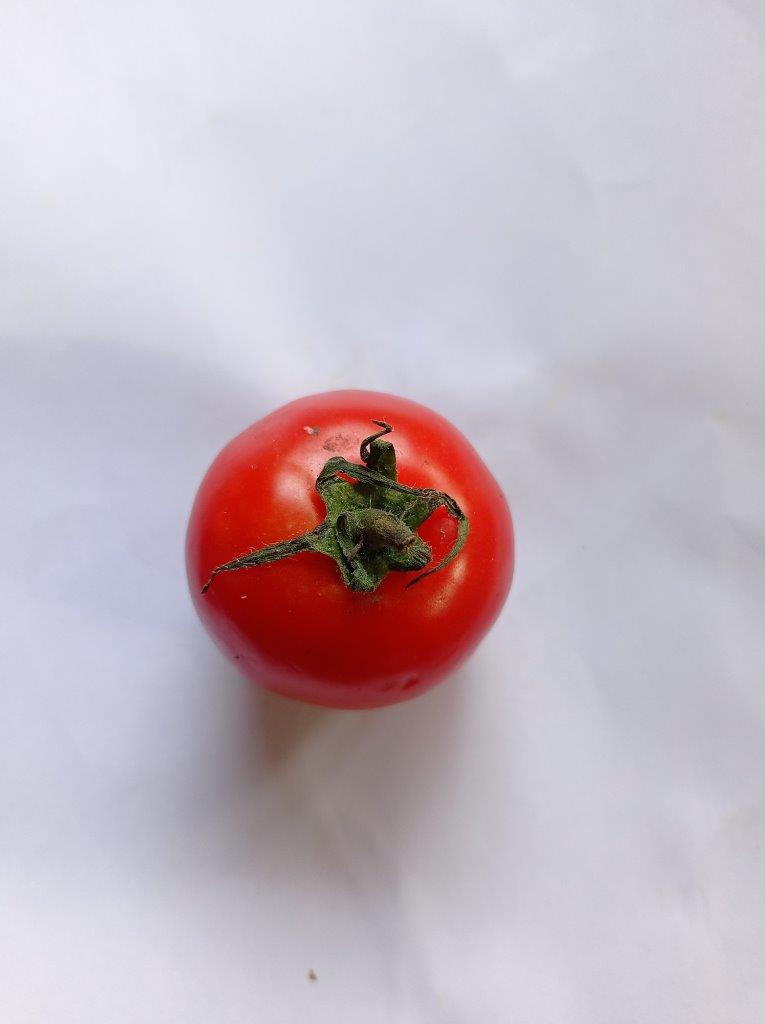tomato: (186, 391, 513, 707)
